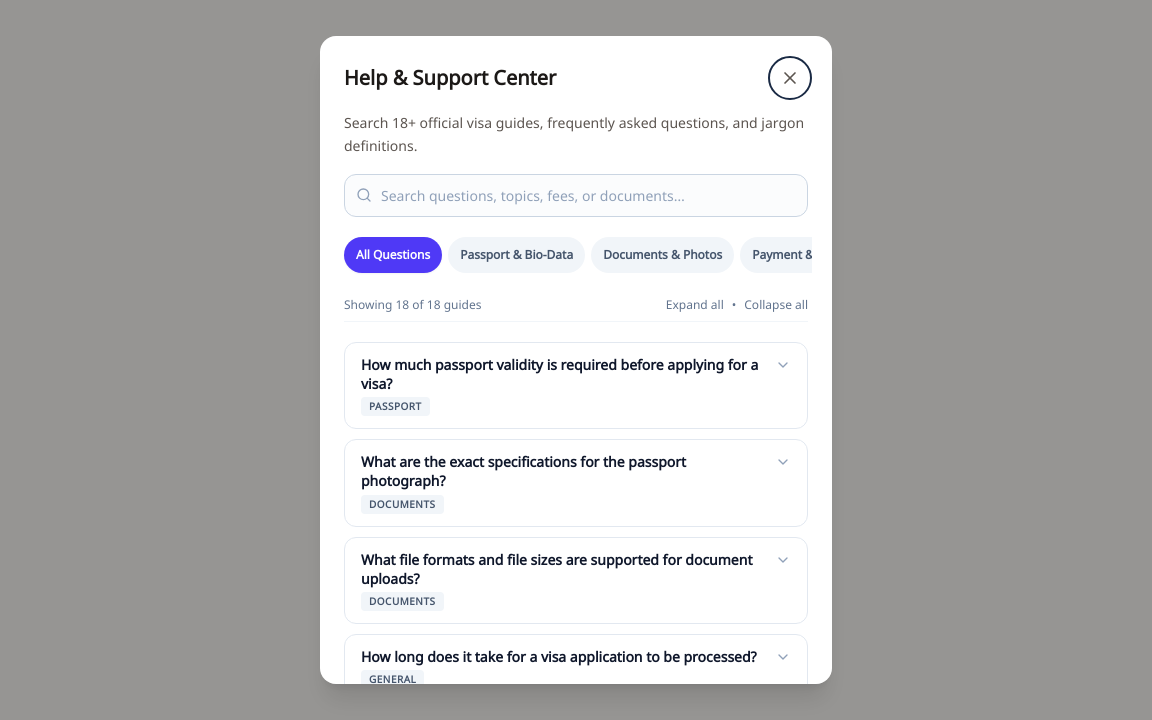
Test case: FaqSheet › filters FAQs by keyword query in real time
Type "photo" into the search field.
click(576, 195); type("photo")  # box [344,174,808,216]
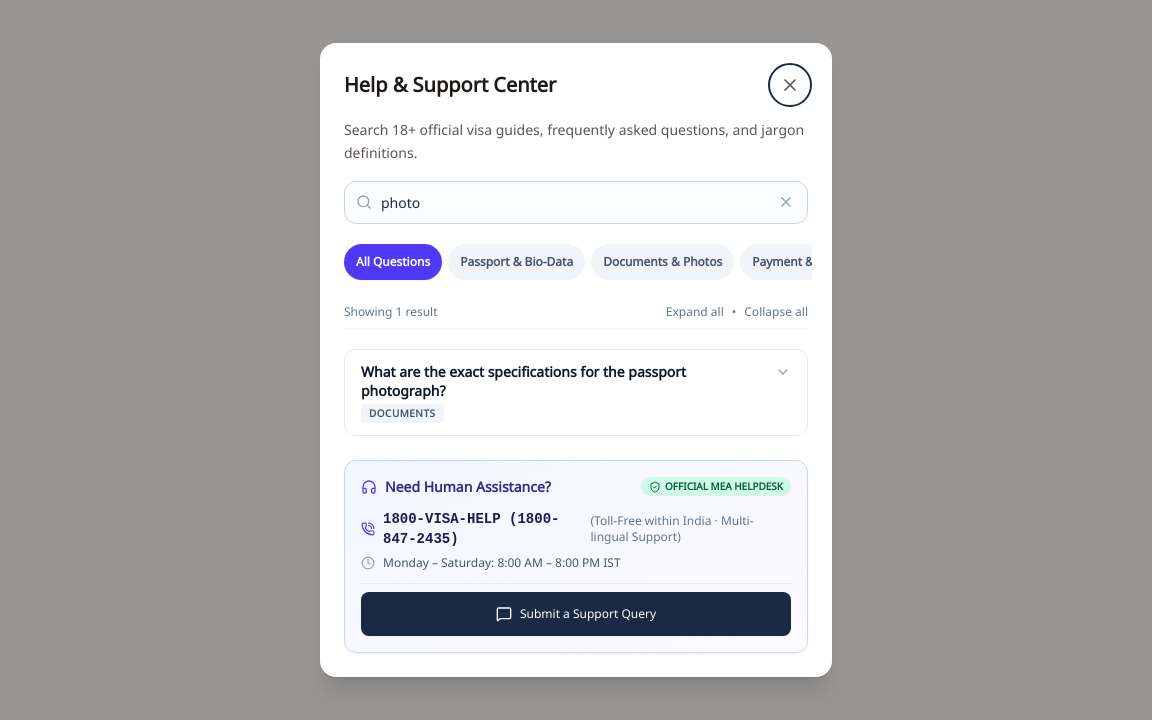
Expected: the text "What are the exact specifications for the passport photograph" is shown, [361,362,686,400]
Now the button "How much passport validity is required" is gone
